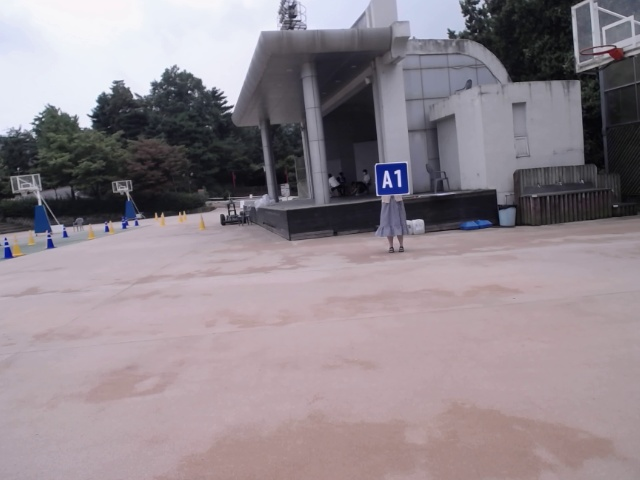delivery_a1: (376, 163, 410, 196)
